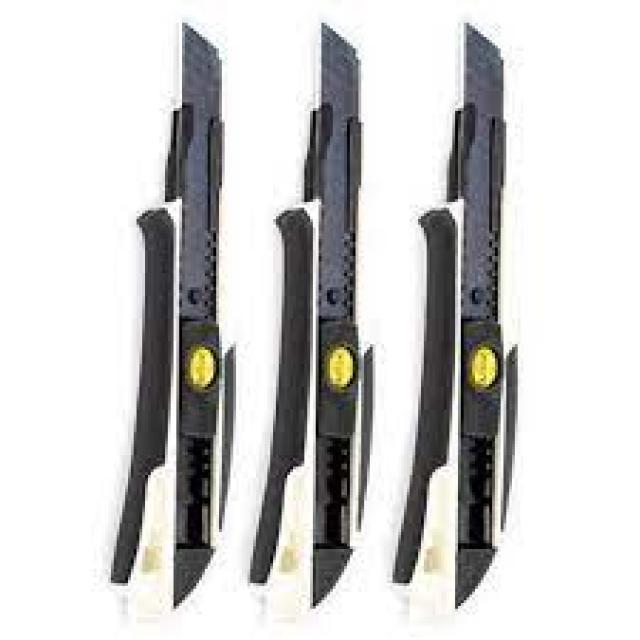cutter: (96, 11, 247, 616), (383, 22, 529, 622), (242, 15, 382, 625)
